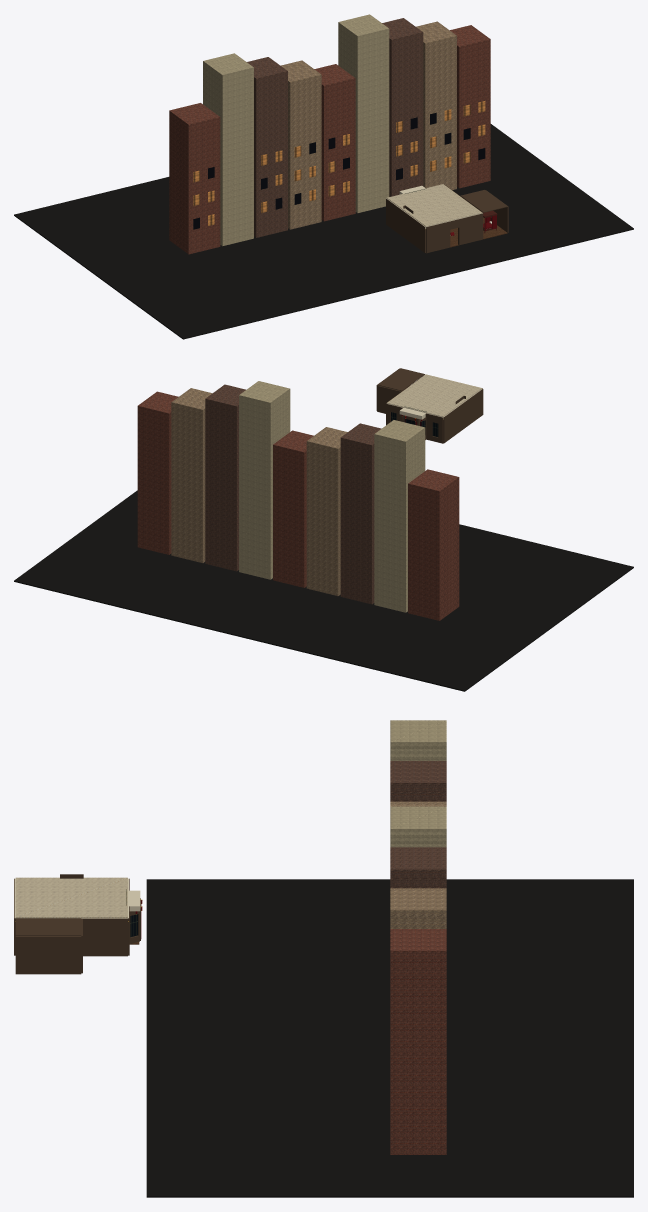
File: palace.glb
The picture shows the model from 3 angles, top to bottom: view 1: azimuth 30°, elevation 25°; view 2: azimuth 150°, elevation 25°; view 3: azimuth 270°, elevation 25°; orthographic projection. The views are drawn at different scales.
Parts seen in each view (by area): view 1: roof, brick_red, clap_cream, brick_brown, brick_tan, plaster, glass_lit0, fresco_louis, glass_dark; view 2: roof, brick_red, clap_cream, brick_brown, brick_tan, plaster, fresco_louis; view 3: roof, brick_red, plaster, brick_brown, clap_cream, fresco_louis, brick_tan.
Part boxes in pixels (box(x1,y1,x2,y2)): roof: box(14, 124, 633, 339); brick_red: box(169, 25, 490, 254); clap_cream: box(203, 14, 389, 246); brick_brown: box(247, 18, 423, 237); brick_tan: box(281, 21, 456, 229); plaster: box(386, 184, 508, 253); glass_lit0: box(193, 101, 485, 225); fresco_louis: box(387, 184, 481, 226); glass_dark: box(193, 112, 485, 229); roof: box(14, 490, 633, 691); brick_red: box(137, 391, 459, 620); clap_cream: box(239, 381, 425, 612); brick_brown: box(205, 384, 381, 604); brick_tan: box(171, 388, 347, 595); plaster: box(376, 368, 483, 443); fresco_louis: box(387, 374, 482, 416); roof: box(146, 879, 633, 1197); brick_red: box(390, 929, 446, 1154); plaster: box(14, 874, 140, 974); brick_brown: box(390, 761, 446, 888); clap_cream: box(390, 720, 446, 847); fresco_louis: box(15, 877, 127, 918); brick_tan: box(390, 801, 446, 928).
Size of the model in its own units: 80 by 30.2 by 66.18.
36 materials, 15 textured.
